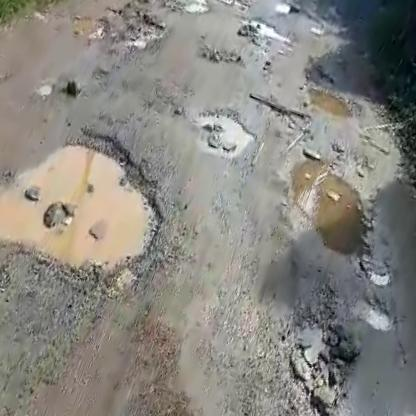pothole: (0, 100, 189, 305), (265, 148, 402, 275), (250, 304, 368, 416), (66, 0, 176, 71), (192, 102, 264, 163), (240, 87, 316, 133), (229, 6, 298, 52), (300, 81, 363, 127), (350, 291, 405, 338)
